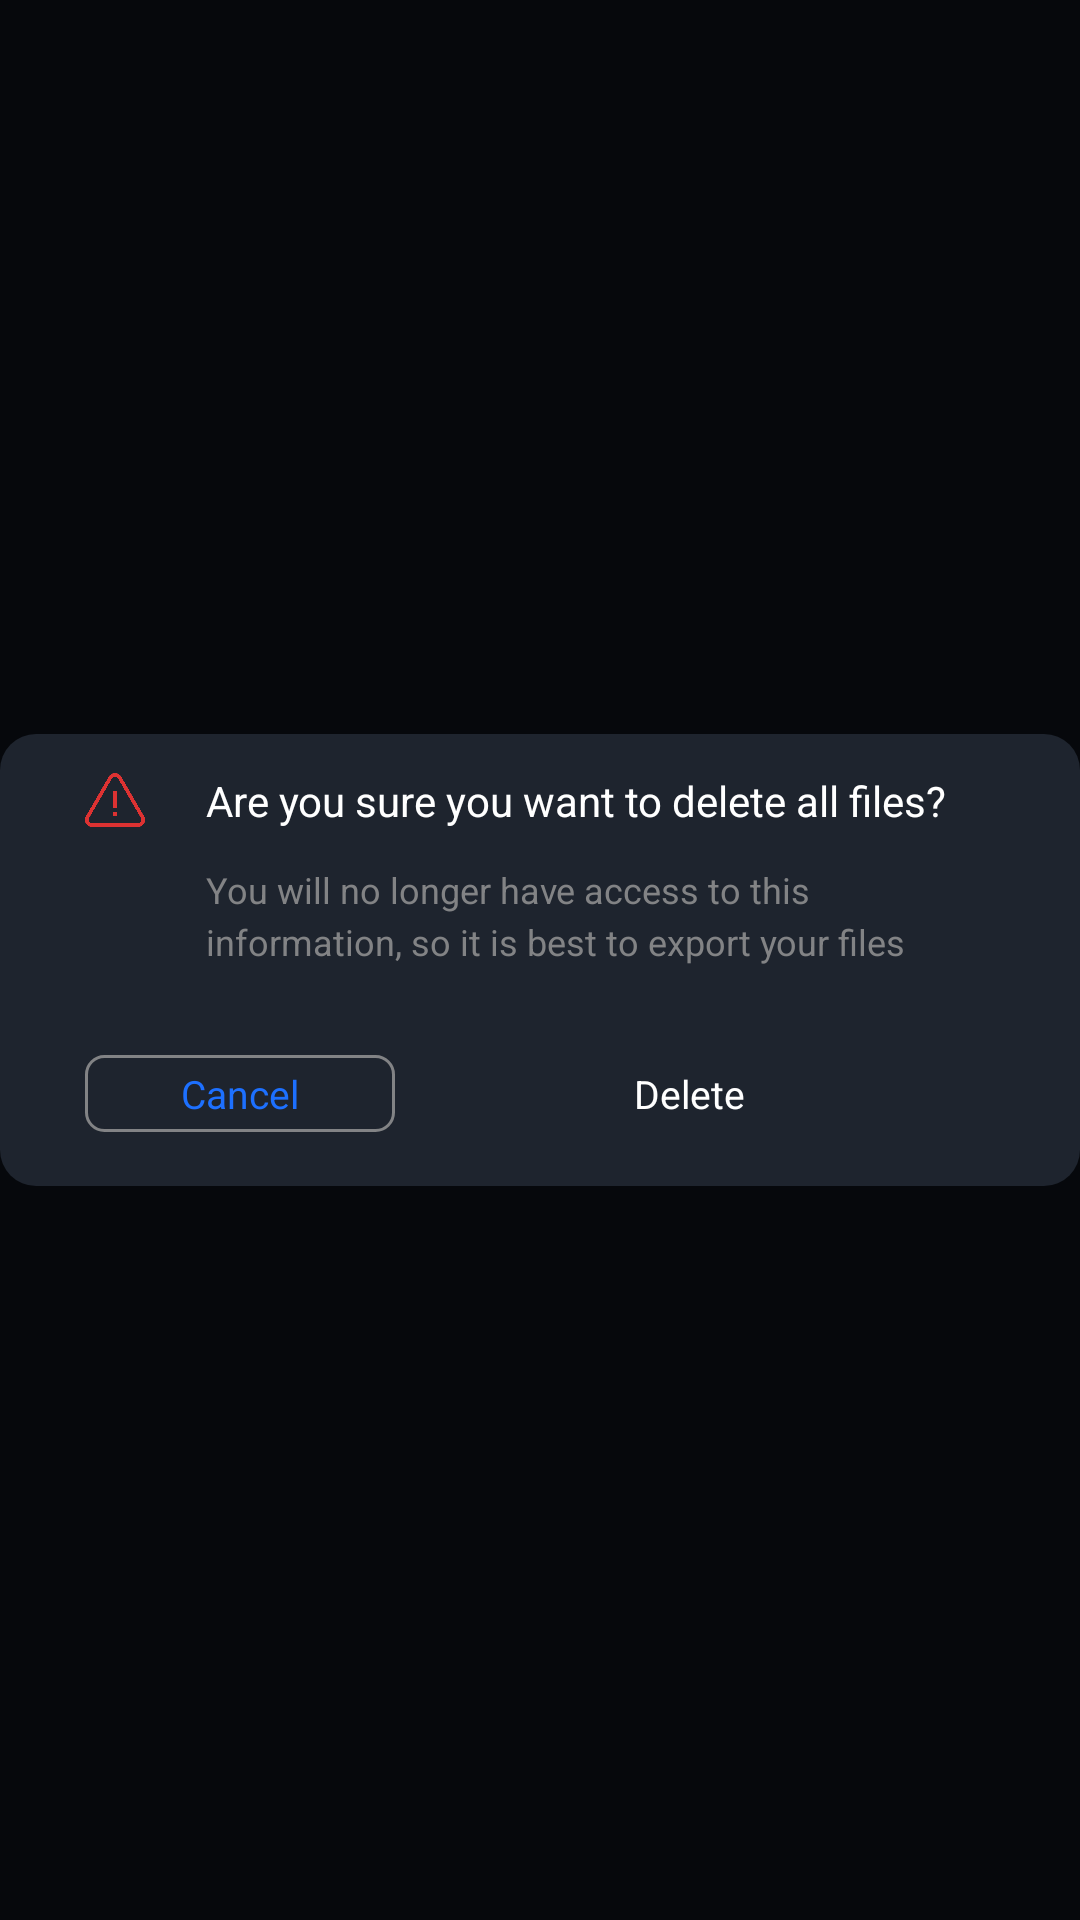

Screen size 1080×1920. Icon name, then its center in pixels as [x,y]:
alert: [115,800]
